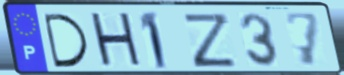1: (137, 11, 170, 71)
3: (238, 11, 280, 69)
7: (284, 11, 323, 70)
D: (40, 12, 92, 69)
H: (88, 11, 146, 71)
Z: (181, 11, 239, 69)
